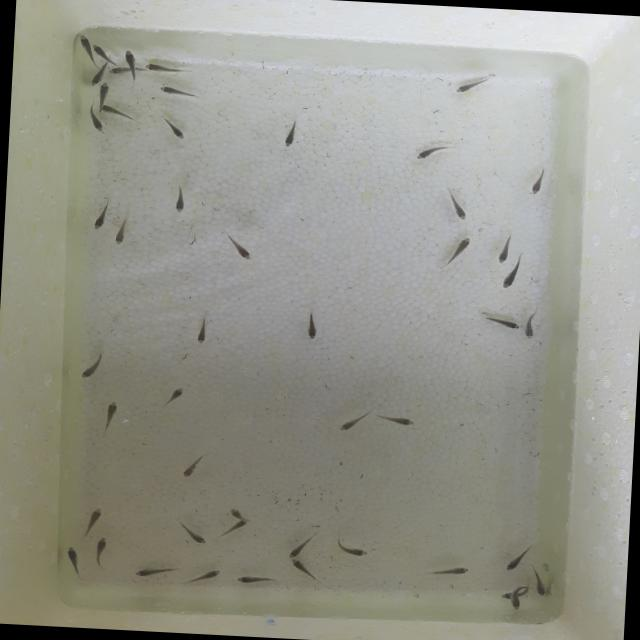fingerling: (438, 234, 474, 272), (220, 230, 257, 262), (335, 406, 373, 436), (96, 398, 124, 438), (180, 448, 213, 481), (442, 186, 472, 222), (450, 74, 494, 98), (76, 350, 108, 382), (182, 566, 226, 588), (427, 562, 474, 582), (415, 142, 454, 166), (77, 505, 106, 537), (175, 521, 212, 546), (132, 562, 182, 580), (233, 570, 278, 590), (479, 310, 522, 330), (493, 231, 518, 265), (90, 534, 112, 572), (219, 519, 251, 545), (160, 115, 190, 142), (141, 60, 191, 76), (288, 558, 320, 582), (158, 384, 190, 408), (64, 545, 85, 581), (502, 542, 526, 572), (374, 413, 420, 428), (102, 103, 138, 122), (157, 84, 202, 99), (193, 314, 214, 346), (280, 118, 302, 148), (530, 566, 550, 598), (170, 182, 190, 214), (528, 168, 549, 198), (522, 305, 540, 340), (500, 263, 522, 291), (304, 308, 322, 342), (288, 535, 314, 558), (92, 198, 109, 231), (502, 592, 530, 612), (114, 215, 132, 246), (92, 42, 118, 62), (74, 35, 94, 59), (87, 66, 107, 88), (88, 110, 106, 134), (336, 546, 372, 558), (119, 47, 139, 67), (94, 82, 111, 104), (228, 504, 248, 520), (108, 66, 132, 78)
